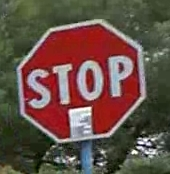stop: (11, 16, 149, 141)
